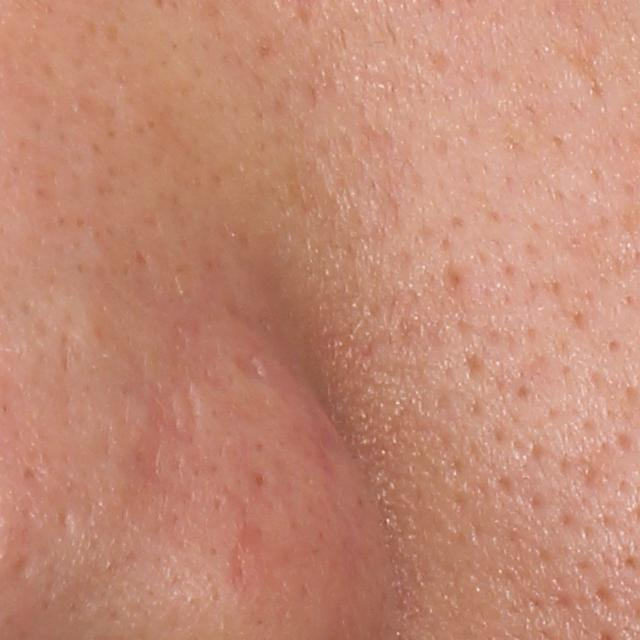atrophic_scar: (134, 369, 165, 489), (227, 347, 270, 386)
